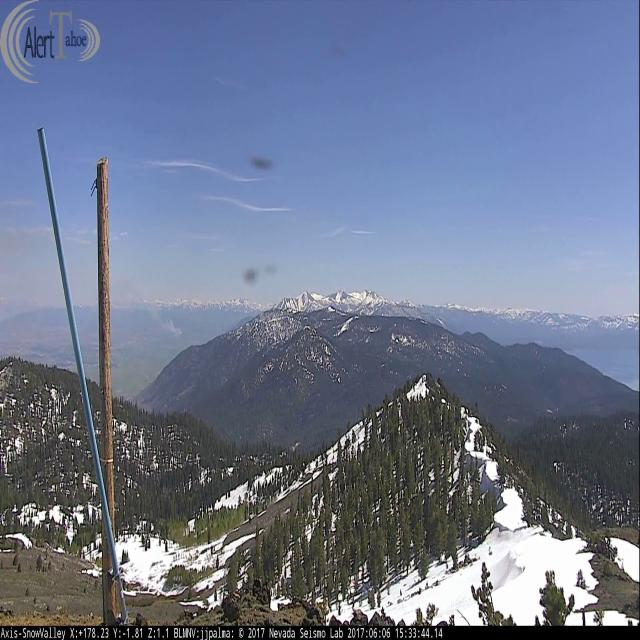smoke: (120, 269, 187, 341)
